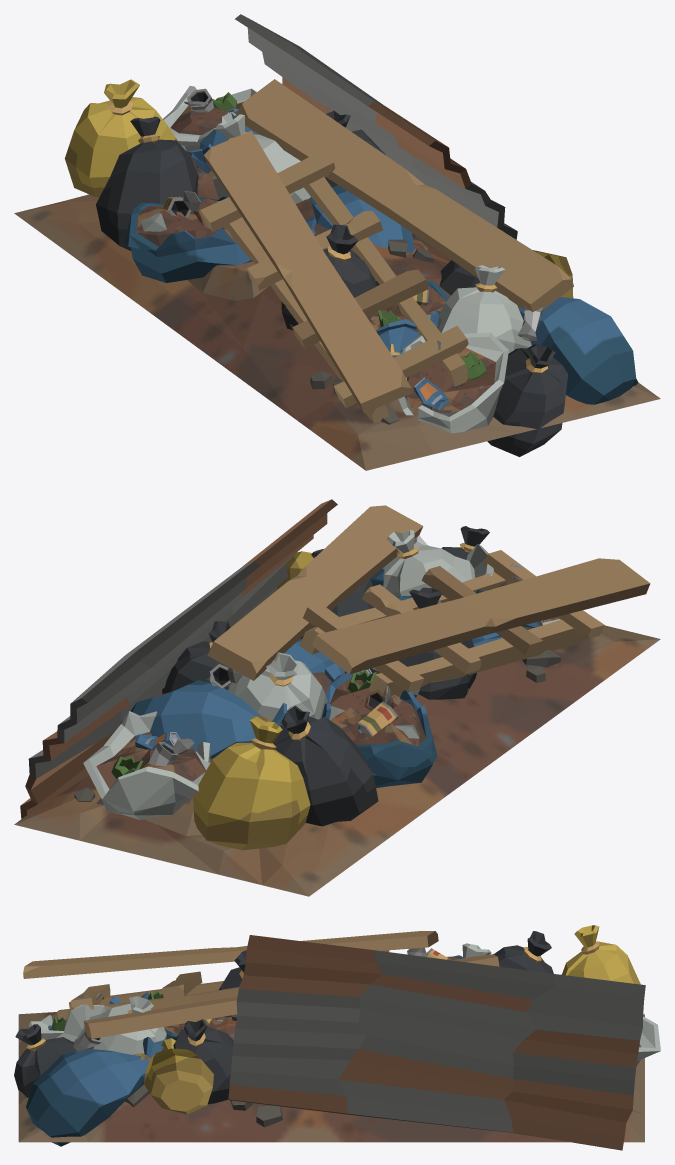
The model's file is SM_Prop_Skip_Large_01_Insert_01.fbx.
The picture shows the model from 3 angles, top to bottom: view 1: azimuth 30°, elevation 25°; view 2: azimuth 150°, elevation 25°; view 3: azimuth 270°, elevation 25°; orthographic projection. The views are drawn at different scales.
Visible parts, largest first — view 1: SM_Prop_Skip_Large_01_Insert_01; view 2: SM_Prop_Skip_Large_01_Insert_01; view 3: SM_Prop_Skip_Large_01_Insert_01.
Boxes of the visible parts, x1,y1,x2,y2 form: SM_Prop_Skip_Large_01_Insert_01: [14, 14, 660, 470]; SM_Prop_Skip_Large_01_Insert_01: [14, 499, 660, 896]; SM_Prop_Skip_Large_01_Insert_01: [14, 925, 660, 1150].
Bounding box in the file's own units: 202 × 140 × 418.
